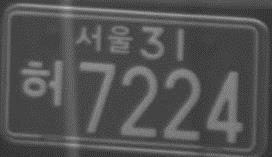1: (173, 27, 186, 61)
2: (161, 67, 203, 142), (119, 66, 159, 140)
3: (139, 23, 166, 62)
4: (204, 67, 245, 147)
7: (76, 59, 116, 134)
서울_O: (72, 23, 136, 58)
허: (18, 57, 65, 108)
